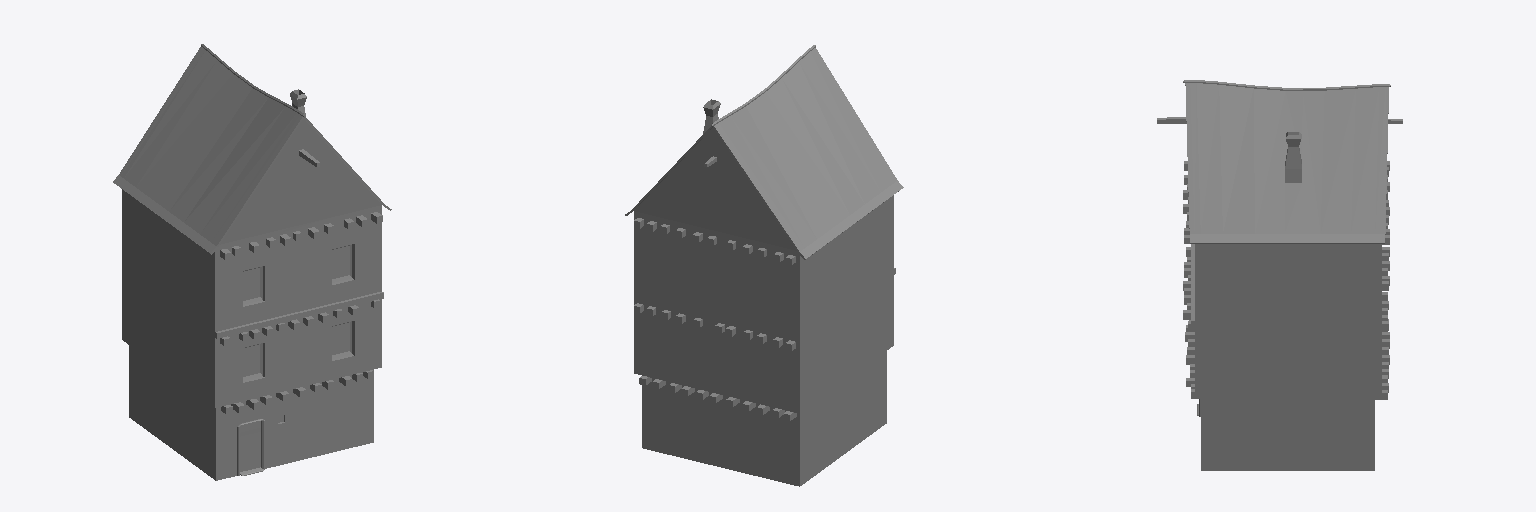
The model's file is Casa_Tipo4.obj.
3 views of the same model, side by side, from view 1: azimuth 30°, elevation 25°; view 2: azimuth 150°, elevation 25°; view 3: azimuth 270°, elevation 25° (orthographic).
Parts seen in each view (by area): view 1: House; view 2: House; view 3: House.
Boxes of the visible parts, x1=… form: House: x1=113, y1=44, x2=391, y2=480; House: x1=625, y1=45, x2=903, y2=486; House: x1=1157, y1=80, x2=1402, y2=470.
Bounding box in the file's own units: 8.02 × 14.94 × 9.42.